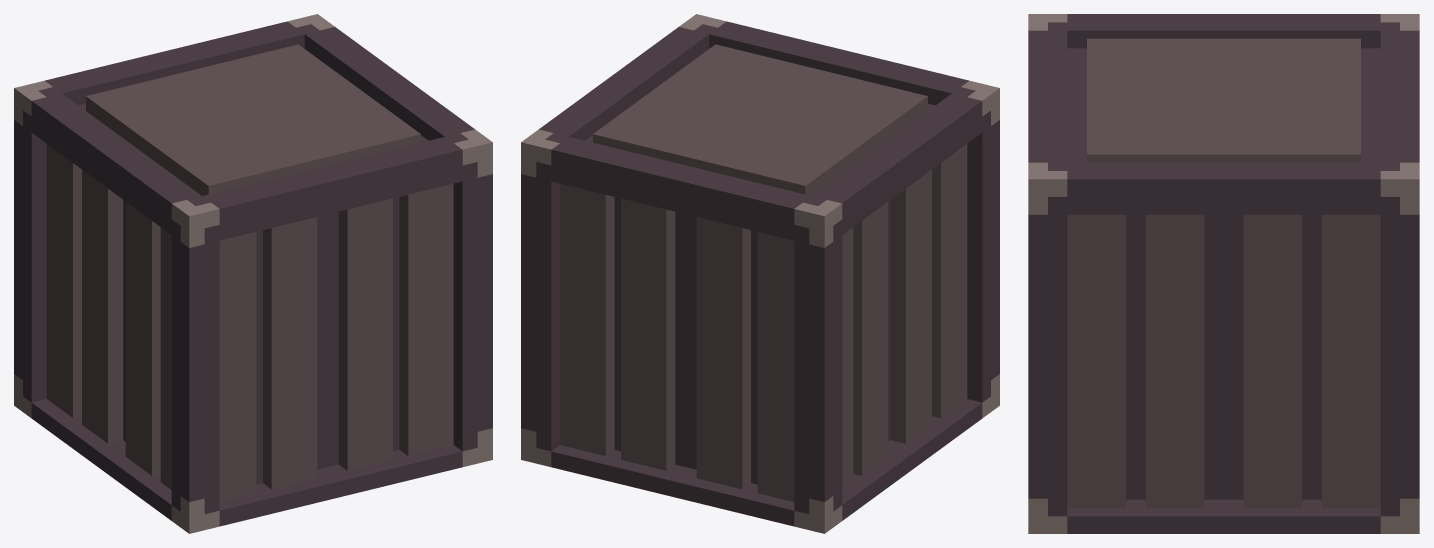
File: caja1_entera.obj
3 renders of one model, left to right at view 1: azimuth 30°, elevation 25°; view 2: azimuth 150°, elevation 25°; view 3: azimuth 270°, elevation 25°, orthographic. The views are drawn at different scales.
Size of the model in its own units: 2 by 2 by 2.
Materials: 1 (1 with a texture image).
